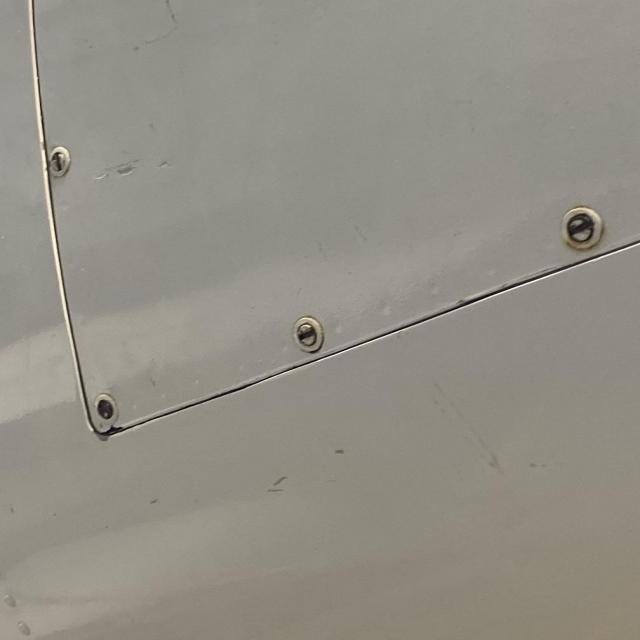Paint-off: (70, 155, 189, 181), (265, 476, 286, 494)
